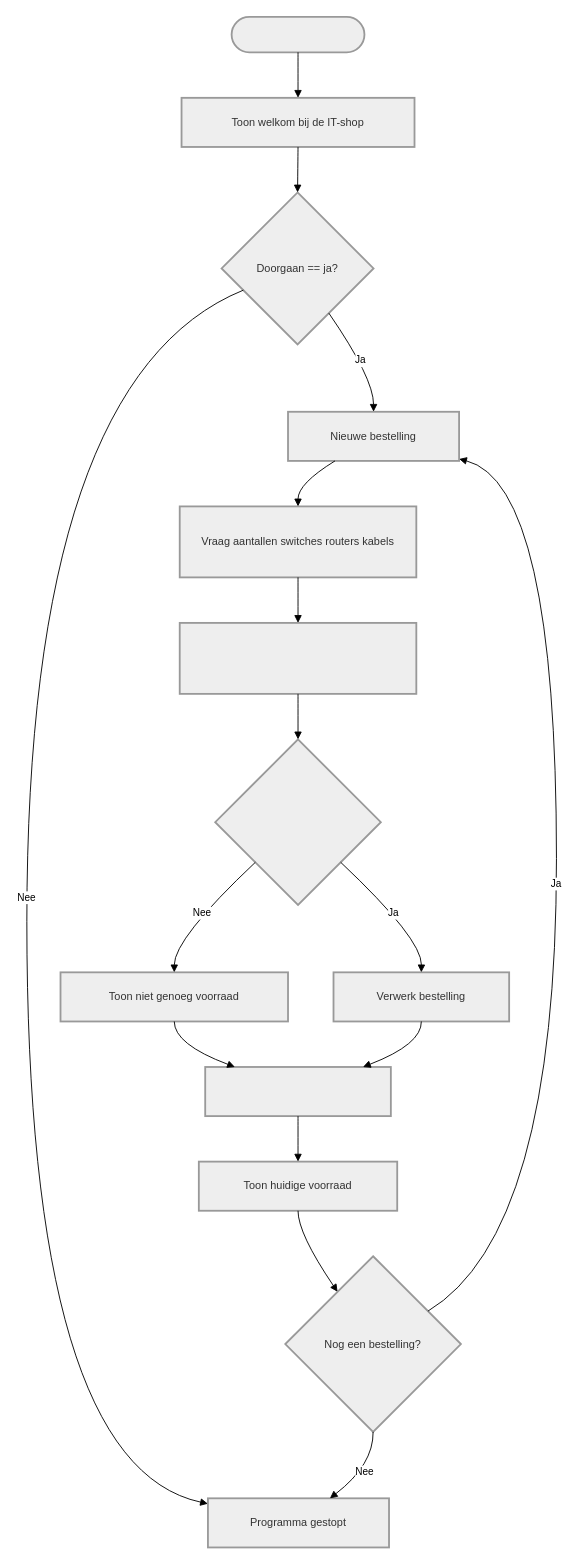
Some shapes in this 579 by 1563 pixel diagram are drawn without their labels. The shapes that lost their labels are listed below. From the top down, each one's centre as x and y in pixels, then its label:
At (297,34): "Start programma".
At (297,658): "Bereken gratis en totaal kabels".
At (297,821): "Genoeg voorraad?".
At (297,1091): "Controleer voorraad".
